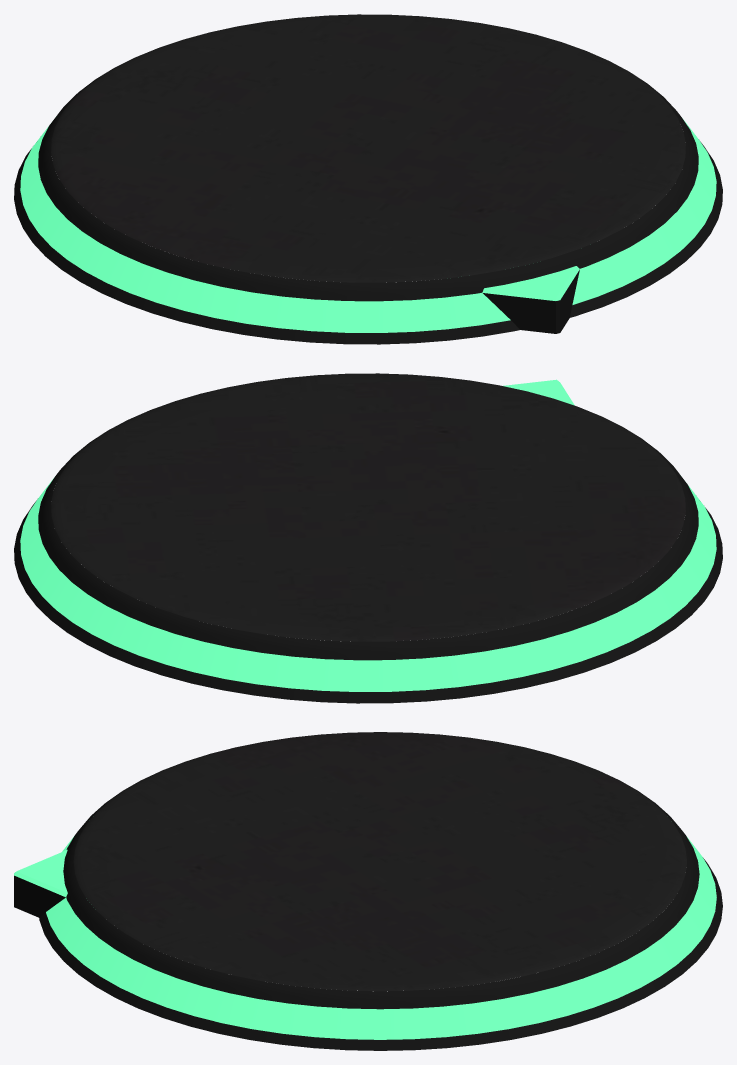
Rendered from jb2around1Indicator.glb.
The picture shows the model from 3 angles, top to bottom: view 1: azimuth 30°, elevation 25°; view 2: azimuth 150°, elevation 25°; view 3: azimuth 270°, elevation 25°; orthographic projection. The views are drawn at different scales.
Parts seen in each view (by area): view 1: base, ForwardMaker.005; view 2: base, ForwardMaker.005; view 3: base, ForwardMaker.005.
Part boxes in pixels (x1=…): base: x1=14, y1=14, x2=722, y2=344; ForwardMaker.005: x1=482, y1=266, x2=579, y2=333; base: x1=14, y1=373, x2=722, y2=703; ForwardMaker.005: x1=503, y1=379, x2=574, y2=405; base: x1=39, y1=732, x2=722, y2=1050; ForwardMaker.005: x1=14, y1=849, x2=67, y2=917.
Size of the model in its own units: 1.95 by 0.1473 by 2.02.
Materials: 3 (1 with a texture image).
